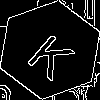K: (25, 25, 83, 82)
